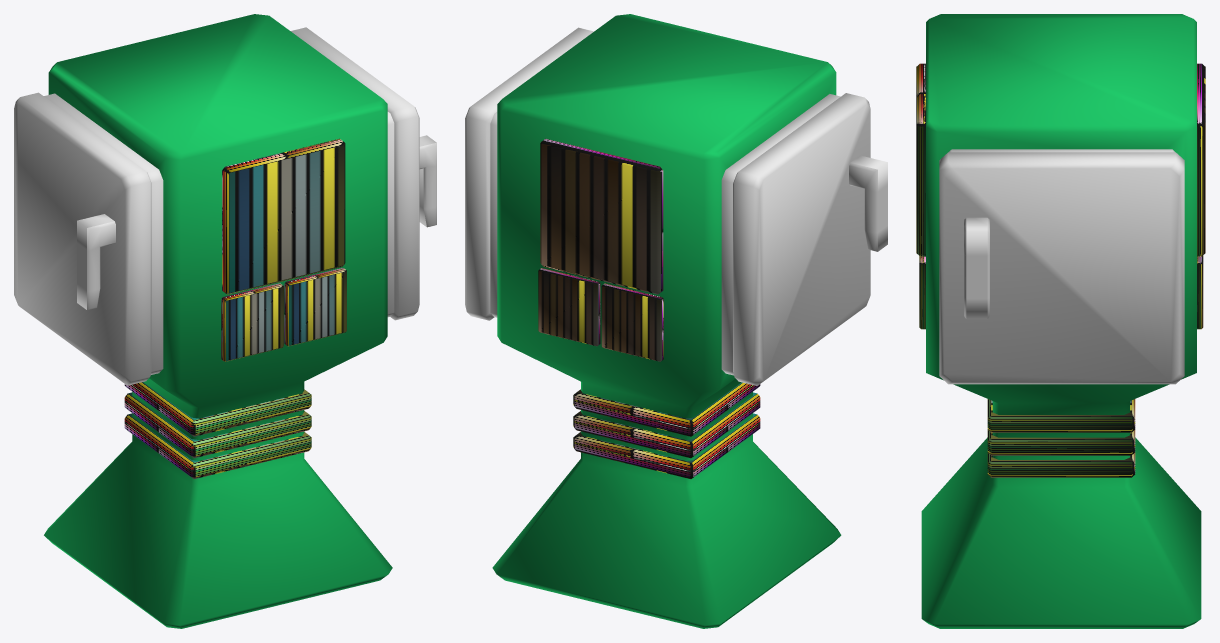
File: SM_Cooler_Uncolored.fbx
3 renders of one model, left to right at view 1: azimuth 30°, elevation 25°; view 2: azimuth 150°, elevation 25°; view 3: azimuth 270°, elevation 25°, orthographic. The views are drawn at different scales.
Visible parts, largest first — view 1: Cube.001, Cube.024, Cube.023; view 2: Cube.001, Cube.024, Cube.023; view 3: Cube.001, Cube.023.
Boxes of the visible parts, x1,y1,x2,y2 form: Cube.001: (44, 14, 392, 628); Cube.024: (14, 92, 163, 385); Cube.023: (290, 27, 436, 320); Cube.001: (492, 14, 841, 628); Cube.024: (721, 93, 887, 385); Cube.023: (465, 27, 593, 320); Cube.001: (916, 14, 1205, 628); Cube.023: (939, 149, 1184, 384).
Size of the model in its own units: 116 by 150 by 78.35.
